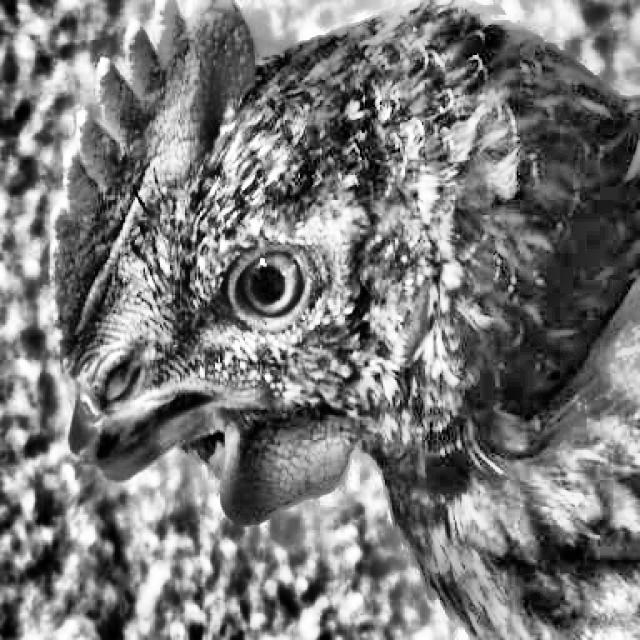Healthy: (218, 237, 352, 343)
